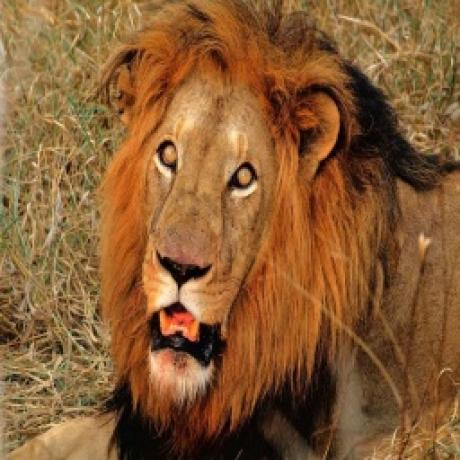Lion: (88, 0, 460, 460)
